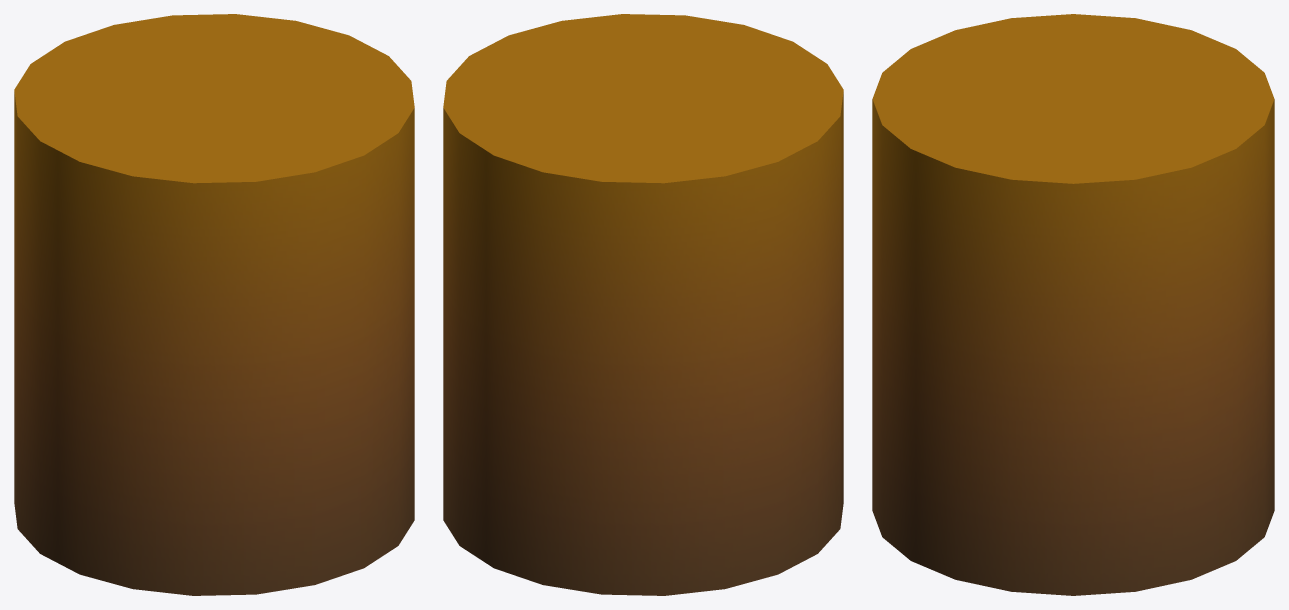
The model's file is SM_Column.fbx.
3 renders of one model, left to right at view 1: azimuth 30°, elevation 25°; view 2: azimuth 150°, elevation 25°; view 3: azimuth 270°, elevation 25°, orthographic.
Visible parts, largest first — view 1: SM_column; view 2: SM_column; view 3: SM_column.
Boxes of the visible parts, x1,y1,x2,y2 form: SM_column: (14,14,414,595); SM_column: (443,14,843,595); SM_column: (872,14,1274,595).
Size of the model in its own units: 94.87 by 107 by 94.87.
